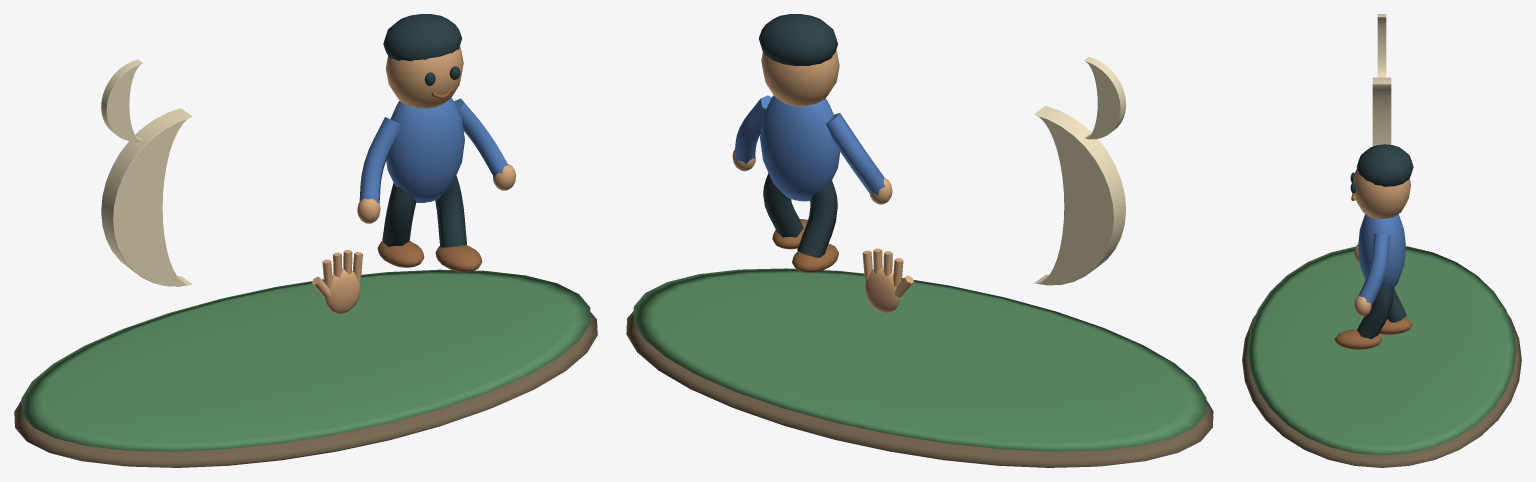
Rendered from complete-first-friend-moons.glb.
3 renders of one model, left to right at view 1: azimuth 30°, elevation 25°; view 2: azimuth 150°, elevation 25°; view 3: azimuth 270°, elevation 25°, orthographic. The views are drawn at different scales.
Visible parts, largest first — view 1: complete-first-friend-moons_surface_01, complete-first-friend-moons_surface_02, complete-first-friend-moons_surface_00, complete-first-friend-moons_surface_06, complete-first-friend-moons_surface_04, complete-first-friend-moons_surface_03, complete-first-friend-moons_surface_05; view 2: complete-first-friend-moons_surface_01, complete-first-friend-moons_surface_02, complete-first-friend-moons_surface_00, complete-first-friend-moons_surface_06, complete-first-friend-moons_surface_04, complete-first-friend-moons_surface_03, complete-first-friend-moons_surface_05; view 3: complete-first-friend-moons_surface_01, complete-first-friend-moons_surface_00, complete-first-friend-moons_surface_04, complete-first-friend-moons_surface_06, complete-first-friend-moons_surface_03, complete-first-friend-moons_surface_02, complete-first-friend-moons_surface_05.
Part boxes in pixels (left/top/right/bottom): complete-first-friend-moons_surface_01: left=21, top=269, right=590, bottom=451; complete-first-friend-moons_surface_02: left=101, top=59, right=192, bottom=286; complete-first-friend-moons_surface_00: left=14, top=312, right=597, bottom=467; complete-first-friend-moons_surface_06: left=359, top=98, right=508, bottom=203; complete-first-friend-moons_surface_04: left=382, top=14, right=466, bottom=247; complete-first-friend-moons_surface_03: left=312, top=46, right=516, bottom=313; complete-first-friend-moons_surface_05: left=377, top=88, right=482, bottom=272; complete-first-friend-moons_surface_01: left=633, top=268, right=1206, bottom=451; complete-first-friend-moons_surface_02: left=1034, top=57, right=1126, bottom=285; complete-first-friend-moons_surface_00: left=626, top=311, right=1213, bottom=467; complete-first-friend-moons_surface_06: left=734, top=95, right=884, bottom=201; complete-first-friend-moons_surface_04: left=758, top=14, right=837, bottom=257; complete-first-friend-moons_surface_03: left=732, top=49, right=913, bottom=312; complete-first-friend-moons_surface_05: left=772, top=219, right=838, bottom=272; complete-first-friend-moons_surface_01: left=1247, top=246, right=1516, bottom=455; complete-first-friend-moons_surface_00: left=1242, top=314, right=1521, bottom=467; complete-first-friend-moons_surface_04: left=1350, top=144, right=1413, bottom=339; complete-first-friend-moons_surface_06: left=1357, top=214, right=1405, bottom=306; complete-first-friend-moons_surface_03: left=1353, top=168, right=1410, bottom=335; complete-first-friend-moons_surface_02: left=1372, top=14, right=1391, bottom=146; complete-first-friend-moons_surface_05: left=1334, top=193, right=1412, bottom=349.
Size of the model in its own units: 4.56 by 2.88 by 2.5.
